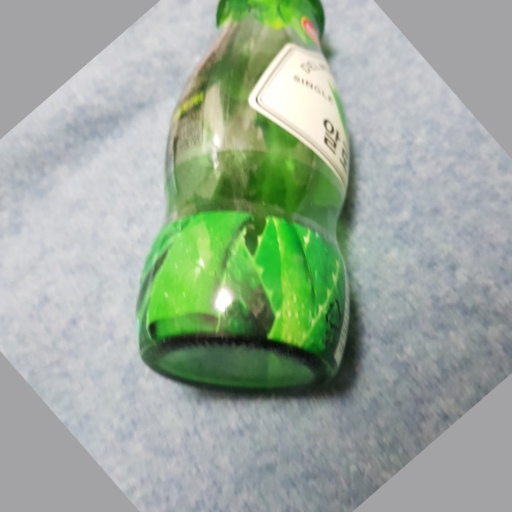Glass_4: (132, 1, 361, 397)
